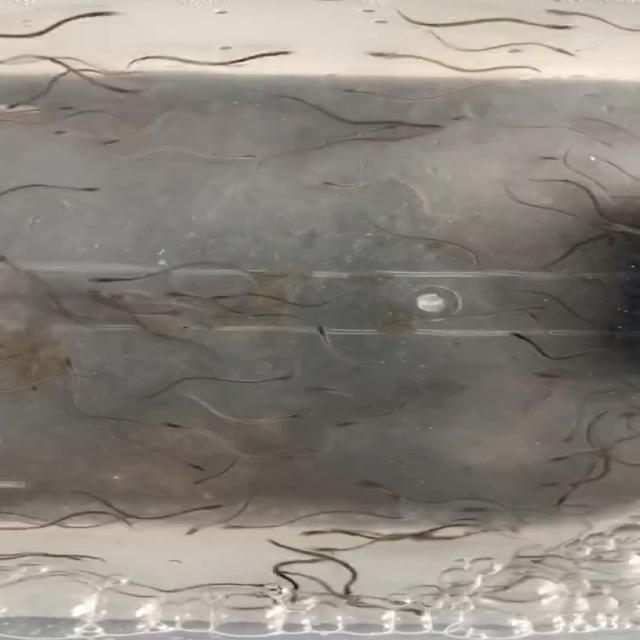active_glass_eel: (55, 6, 119, 22), (182, 519, 241, 535), (531, 40, 582, 57), (255, 44, 309, 60), (527, 14, 575, 32), (208, 147, 264, 162), (353, 480, 402, 496), (106, 78, 152, 95), (359, 49, 416, 62), (73, 181, 115, 198), (196, 499, 243, 514), (318, 174, 356, 192), (392, 604, 433, 620), (96, 131, 136, 147), (84, 271, 129, 285), (222, 520, 266, 534), (520, 309, 554, 327), (155, 286, 203, 298), (296, 524, 344, 536), (508, 303, 548, 317), (268, 368, 308, 382), (590, 228, 621, 246), (560, 423, 584, 446), (269, 412, 314, 424), (183, 475, 216, 491), (310, 322, 336, 342), (455, 502, 492, 516), (533, 478, 576, 490), (211, 290, 253, 302), (279, 586, 303, 607), (544, 450, 582, 463), (335, 412, 364, 429), (14, 374, 46, 389), (309, 544, 357, 554), (336, 84, 378, 95), (8, 94, 35, 111), (34, 125, 72, 137), (178, 458, 208, 473), (546, 494, 576, 509), (521, 153, 558, 165), (244, 579, 282, 590), (589, 137, 621, 150), (306, 383, 340, 395), (336, 581, 360, 598), (468, 256, 492, 273), (444, 111, 471, 126), (504, 330, 530, 345), (38, 104, 86, 112), (158, 422, 198, 431), (60, 357, 82, 372), (409, 120, 445, 129)
